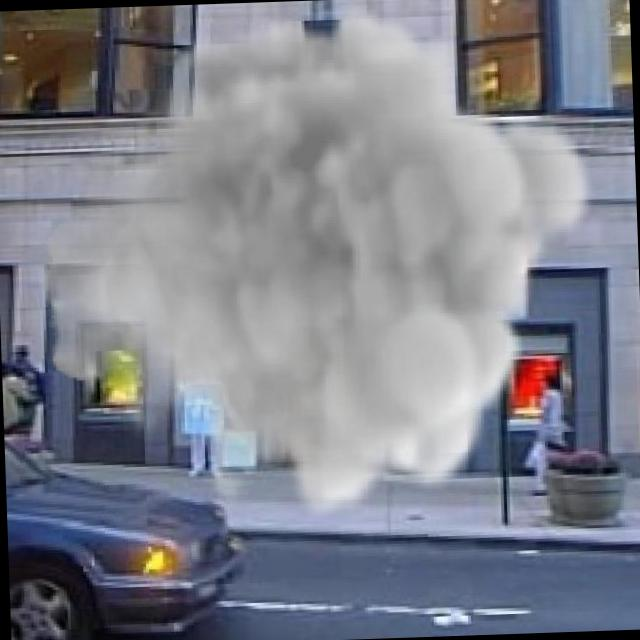Smoke: (29, 0, 610, 530)
